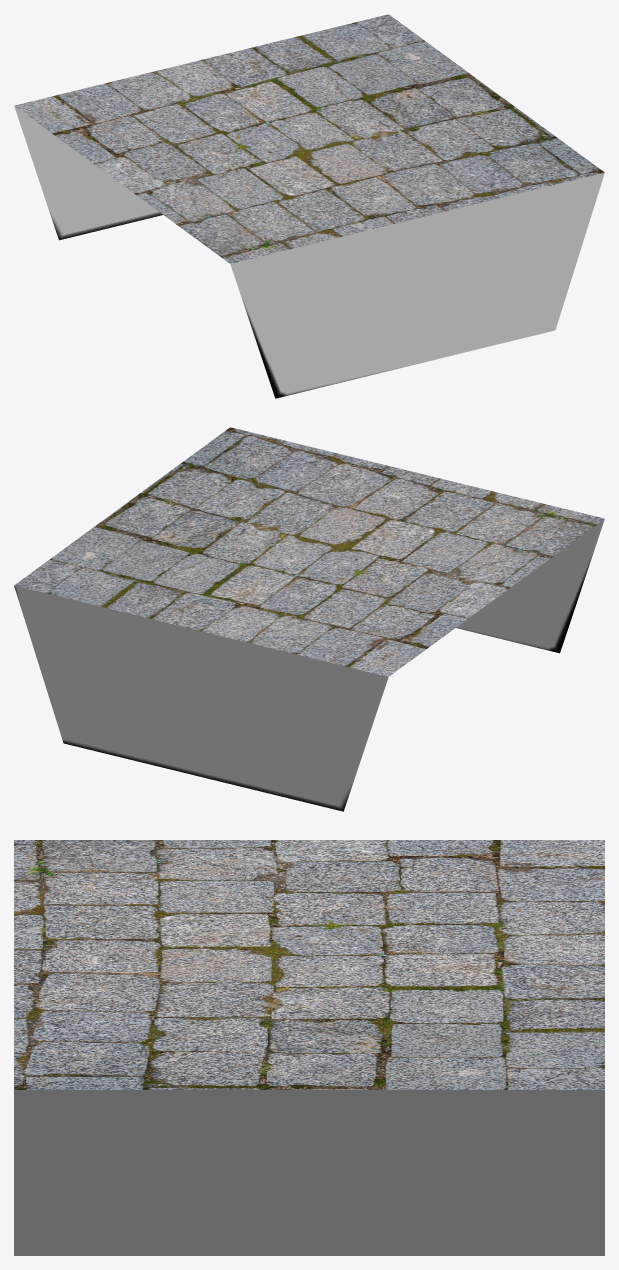
File: street.glb
The picture shows the model from 3 angles, top to bottom: view 1: azimuth 30°, elevation 25°; view 2: azimuth 150°, elevation 25°; view 3: azimuth 270°, elevation 25°; orthographic projection. The views are drawn at different scales.
Visible parts, largest first — view 1: ZBrushPolyMesh3D; view 2: ZBrushPolyMesh3D; view 3: ZBrushPolyMesh3D.
Part boxes in pixels (x1,y1,x2,y2): ZBrushPolyMesh3D: (14, 14, 604, 398); ZBrushPolyMesh3D: (14, 427, 604, 811); ZBrushPolyMesh3D: (14, 840, 604, 1255).
Size of the model in its own units: 2 by 0.7434 by 2.
1 material, 1 textured.
